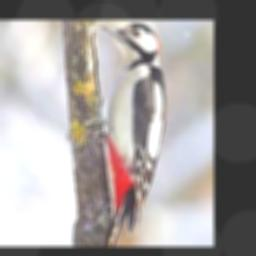Woodpecker: (88, 22, 167, 246)
